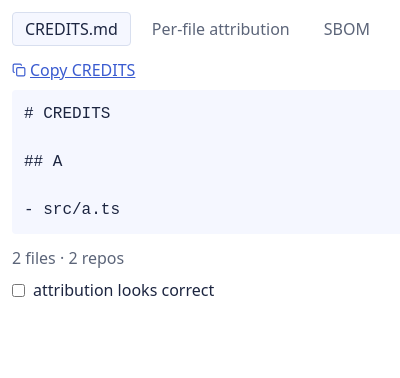
CreditsPreview › sbom view
The image size is (400, 378).
Check: the tab "CREDITS.md" is shown, box [12,12,131,46]
Click the tab "SBOM".
click(347, 29)  # box [311,12,383,46]
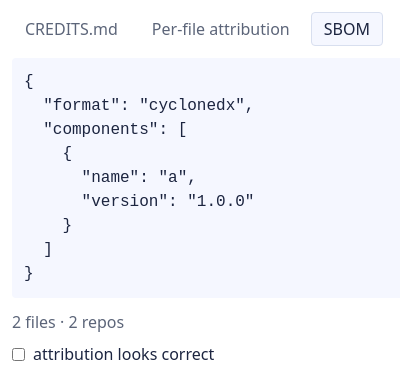
Check: the text with test id "sbom-view" shows "\"cyclonedx\"", box [24,73,254,283]
Check: the text with test id "sbom-view" shows "\"components\"", box [24,73,254,283]
